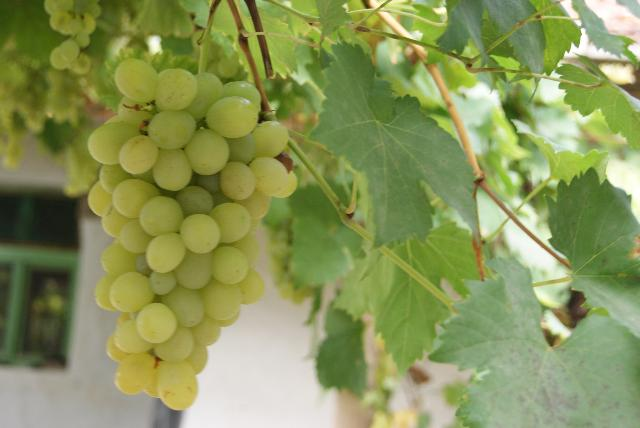grapes: (88, 59, 298, 410)
